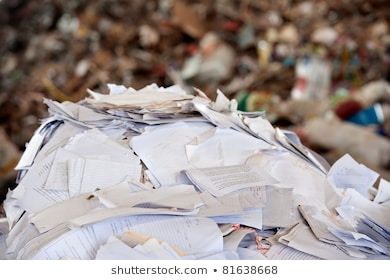paper: (1, 182, 228, 260), (7, 119, 147, 221), (87, 76, 205, 133), (32, 85, 143, 143), (291, 196, 386, 256), (192, 88, 286, 146), (172, 160, 286, 203), (321, 145, 381, 203), (345, 193, 390, 253)
